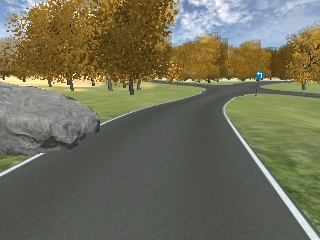left: (256, 71, 264, 79)
